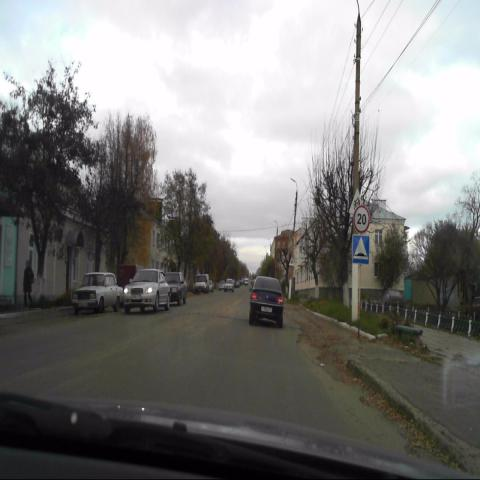5_20: (352, 234, 370, 264)
